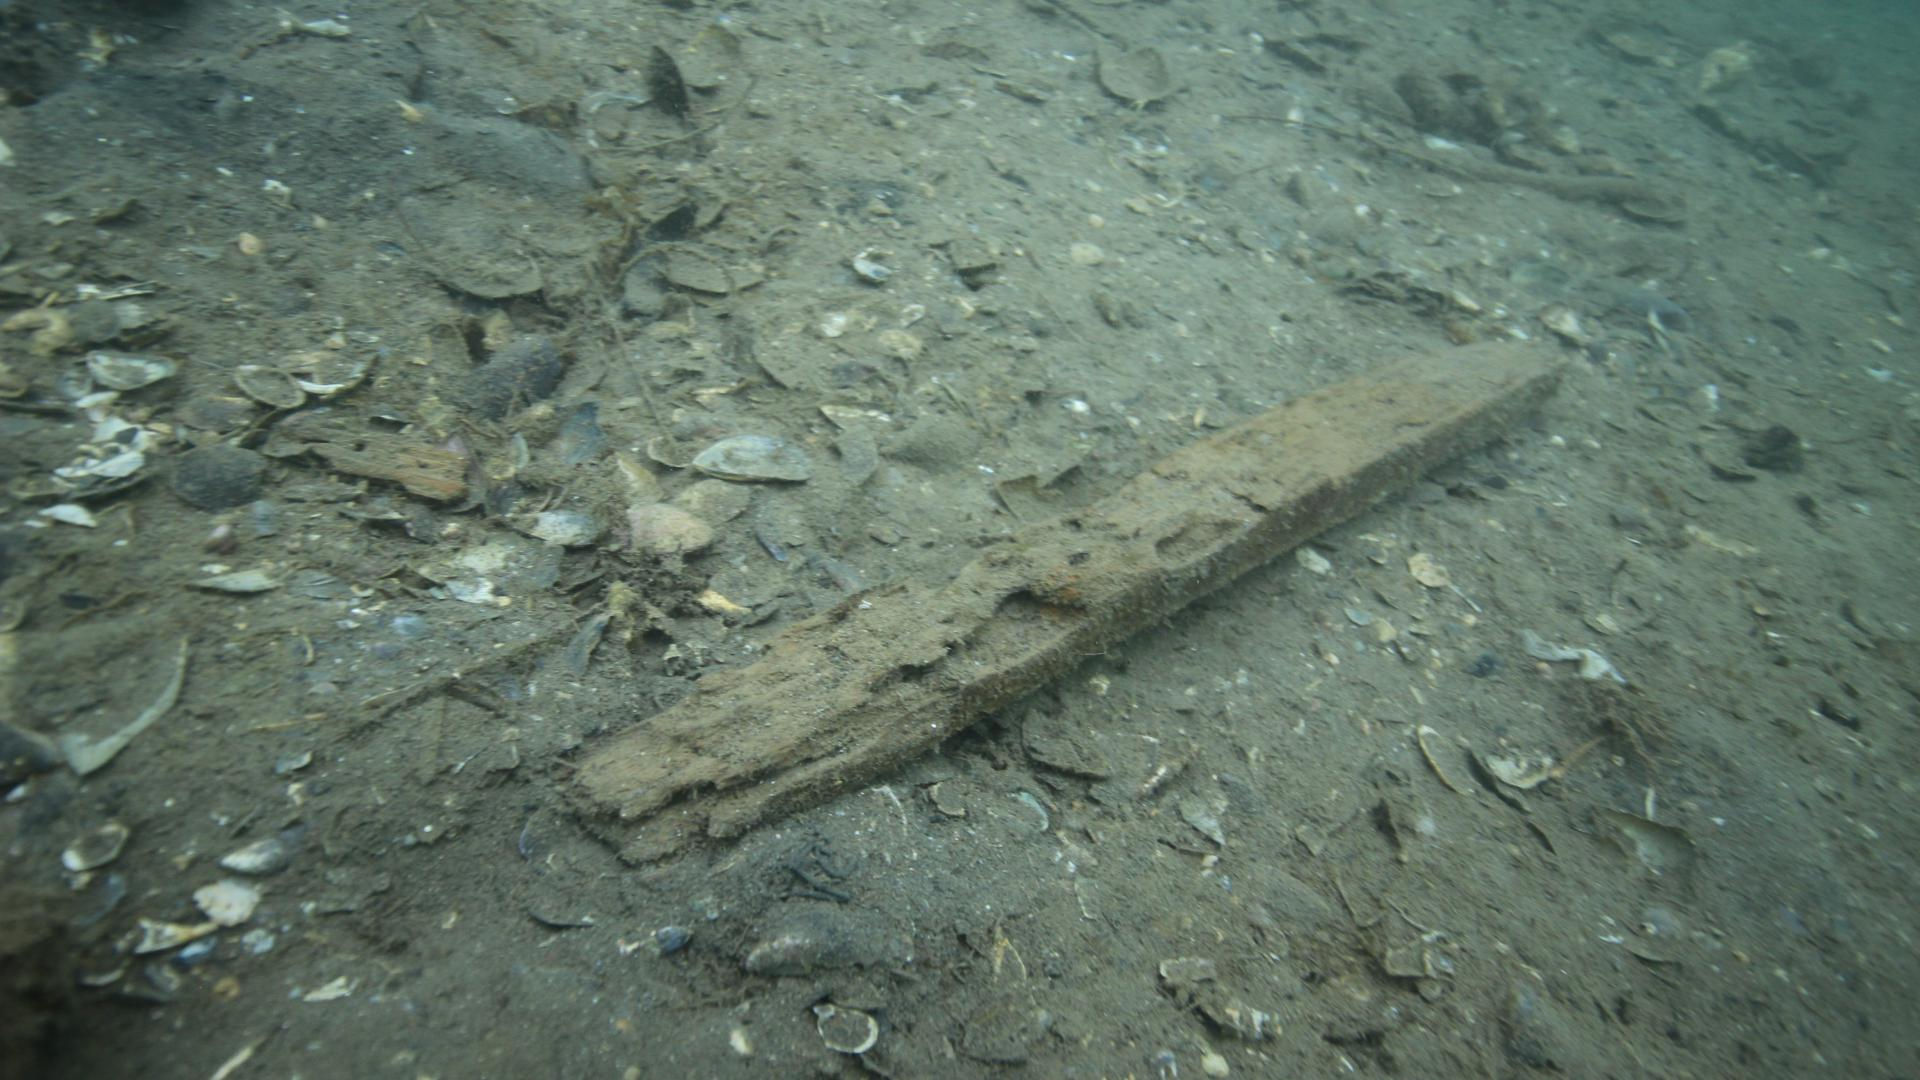wood: (564, 338, 1563, 866)
